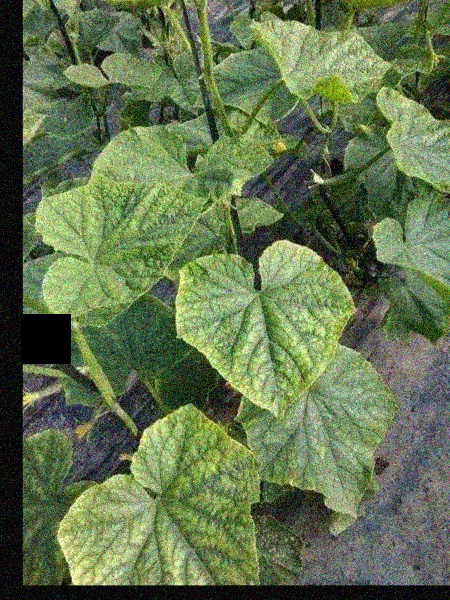cucumber_plant: (48, 162, 340, 403), (67, 405, 256, 585)
